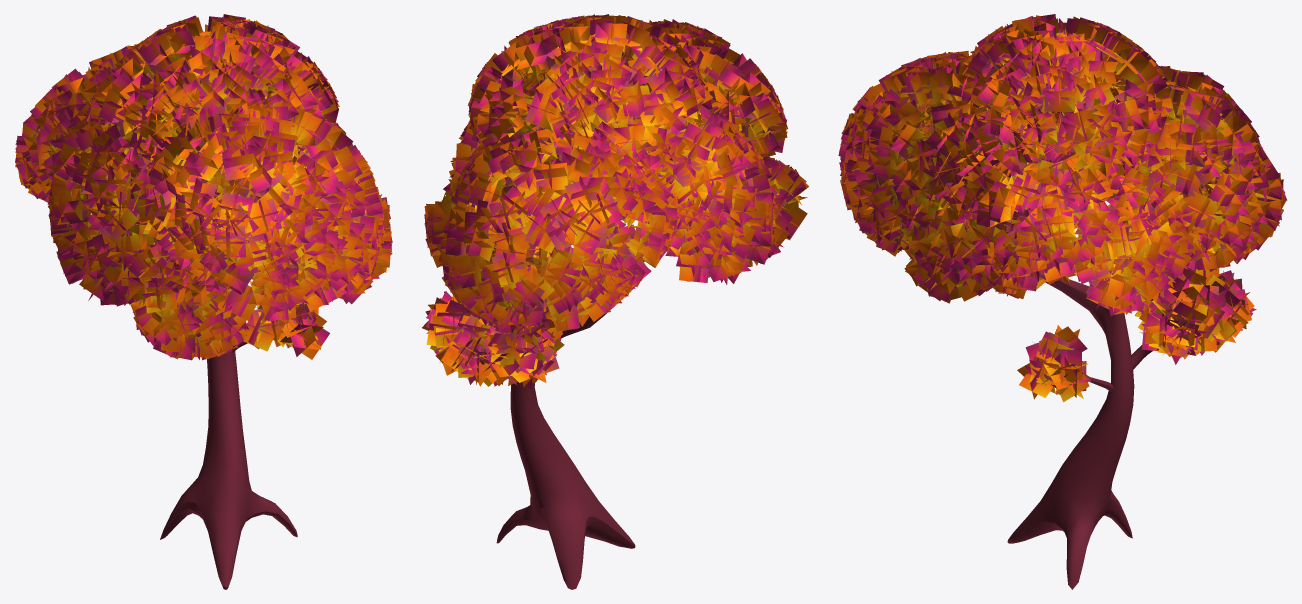
File: Boom1.fbx
3 renders of one model, left to right at view 1: azimuth 30°, elevation 25°; view 2: azimuth 150°, elevation 25°; view 3: azimuth 270°, elevation 25°, orthographic. The views are drawn at different scales.
Visible parts, largest first — view 1: Cube.013; view 2: Cube.013; view 3: Cube.013.
Part boxes in pixels (left/top/right/bottom): Cube.013: left=15, top=14, right=392, bottom=589; Cube.013: left=422, top=14, right=808, bottom=589; Cube.013: left=838, top=14, right=1287, bottom=589.
Size of the model in its own units: 464 by 809 by 629.
